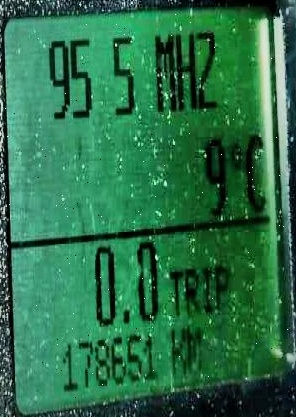-: (121, 306, 130, 324)
0: (135, 237, 158, 319), (94, 243, 115, 325)
1: (61, 341, 78, 389), (142, 335, 156, 380)
5: (110, 32, 134, 115), (69, 36, 91, 119), (126, 331, 141, 380)
6: (111, 335, 125, 383)
7: (77, 338, 92, 389)
8: (93, 338, 109, 386)
9: (46, 38, 69, 118), (204, 135, 225, 214)
X: (154, 32, 175, 112), (195, 30, 216, 109), (175, 32, 196, 109), (246, 132, 265, 211), (170, 325, 186, 377), (185, 266, 201, 316), (186, 328, 202, 371), (214, 263, 228, 309), (169, 269, 182, 315), (201, 266, 210, 312)
